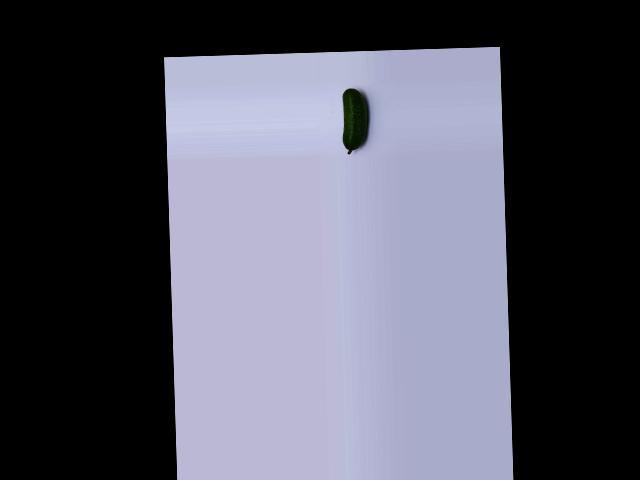cucumber: (341, 87, 368, 154)
